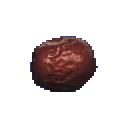gd: (26, 28, 101, 106)
